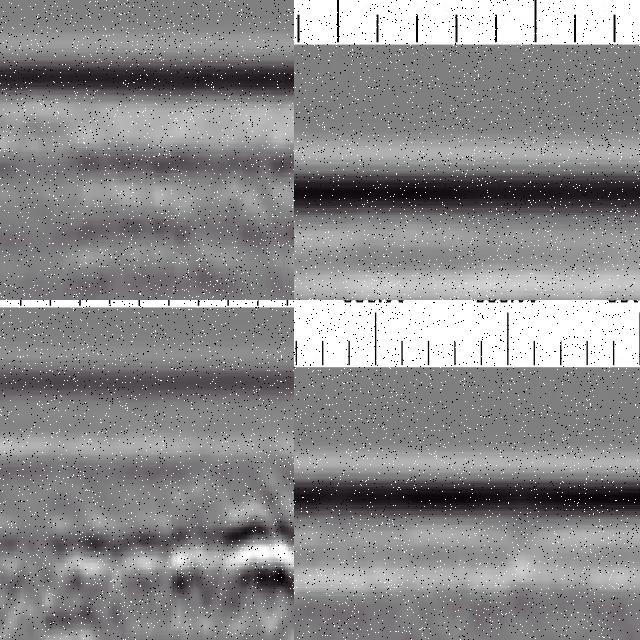loose: (1, 509, 295, 640), (65, 149, 295, 301)
